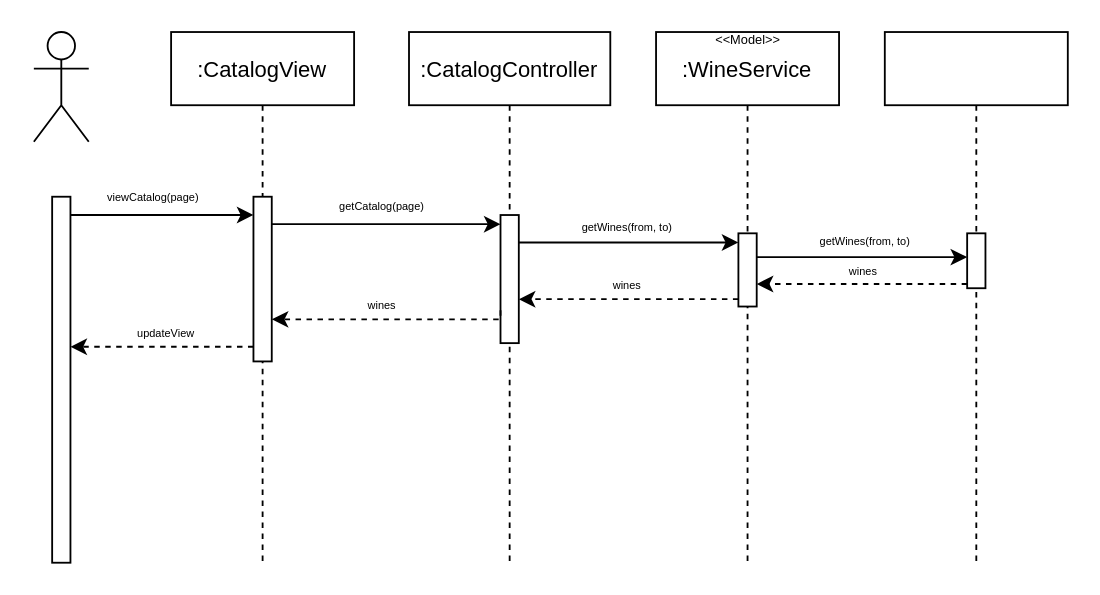
This 1100x595 diagram has some shape labels left out. Each missing label, with the centre of its shape:
":Wine" belongs at point 975,296.
"Guest" belongs at point 60,86.
